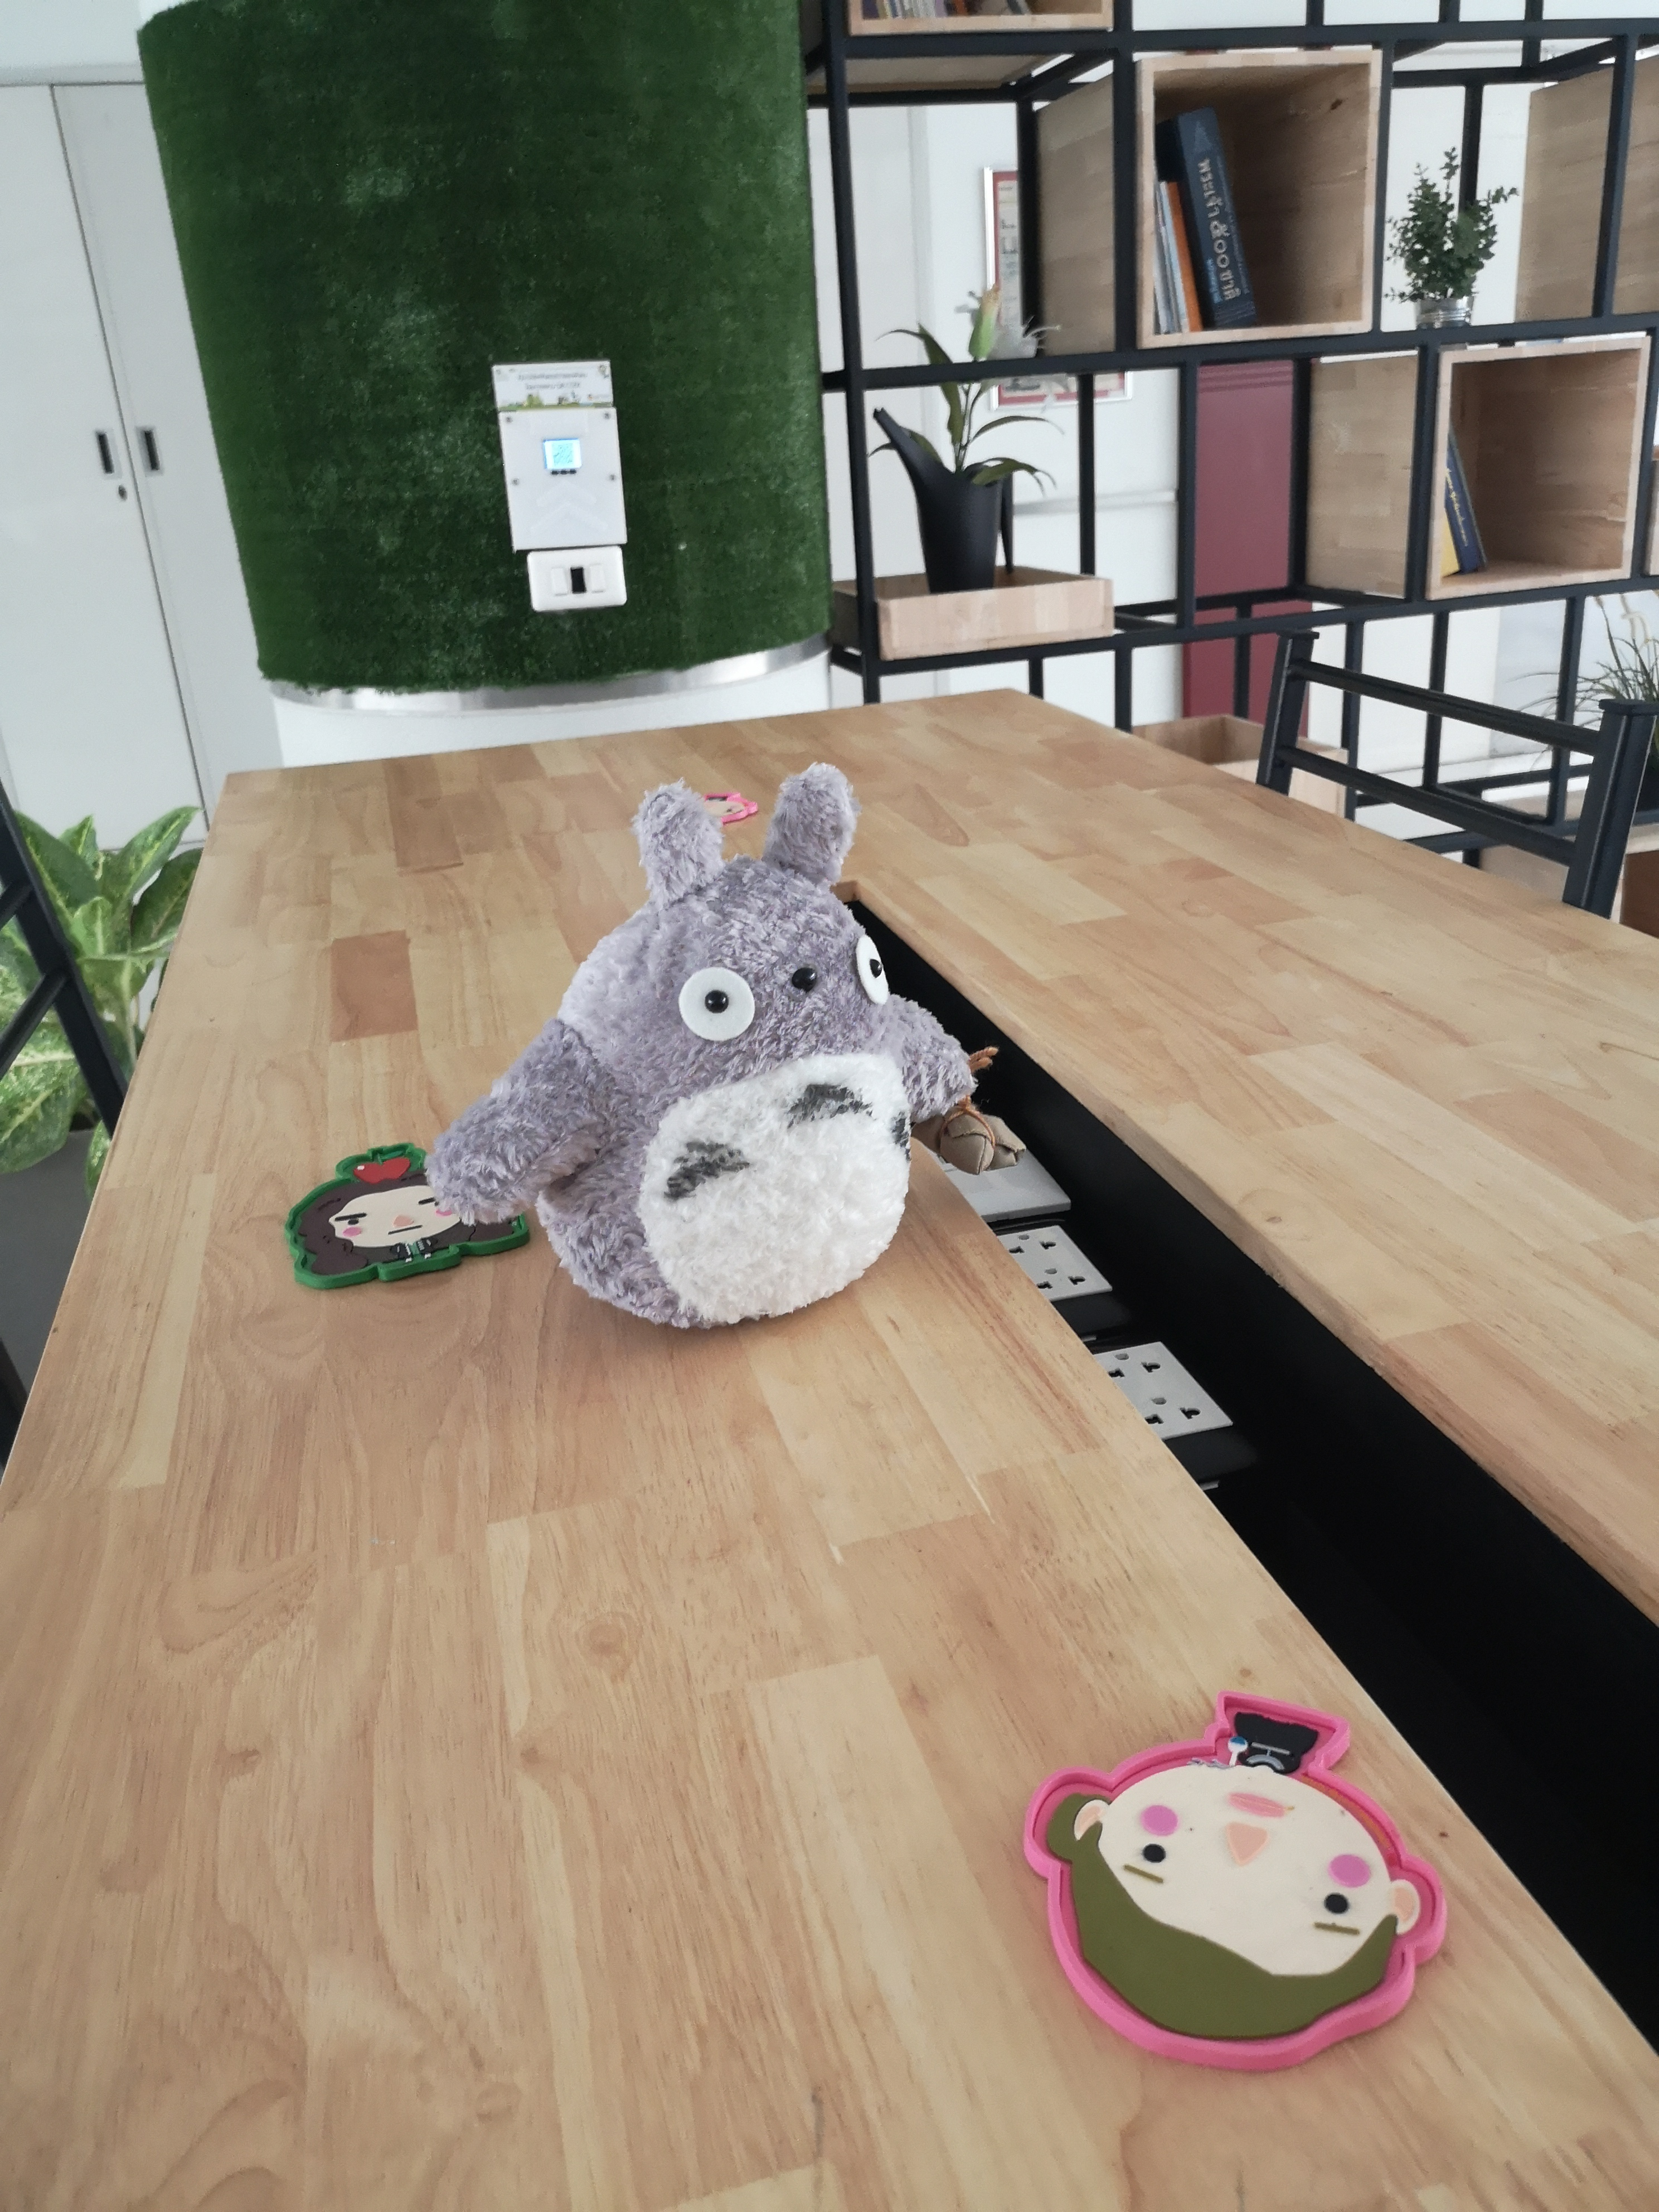totoro: (434, 758, 1035, 1339)
